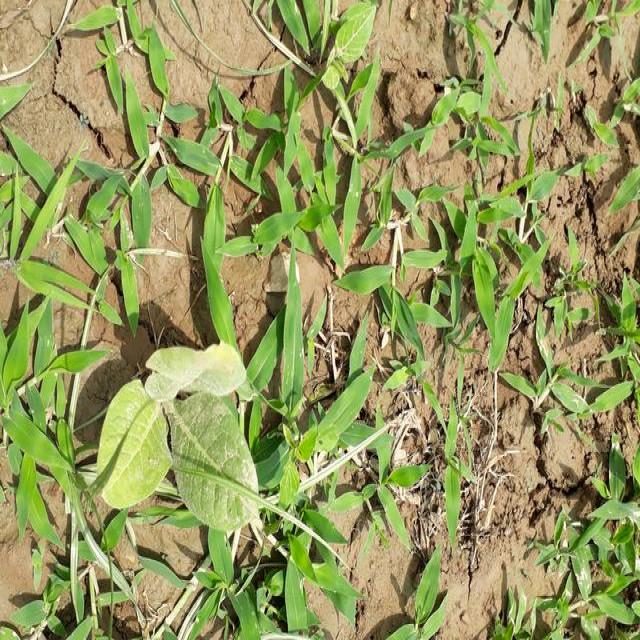crop: (98, 327, 269, 533)
